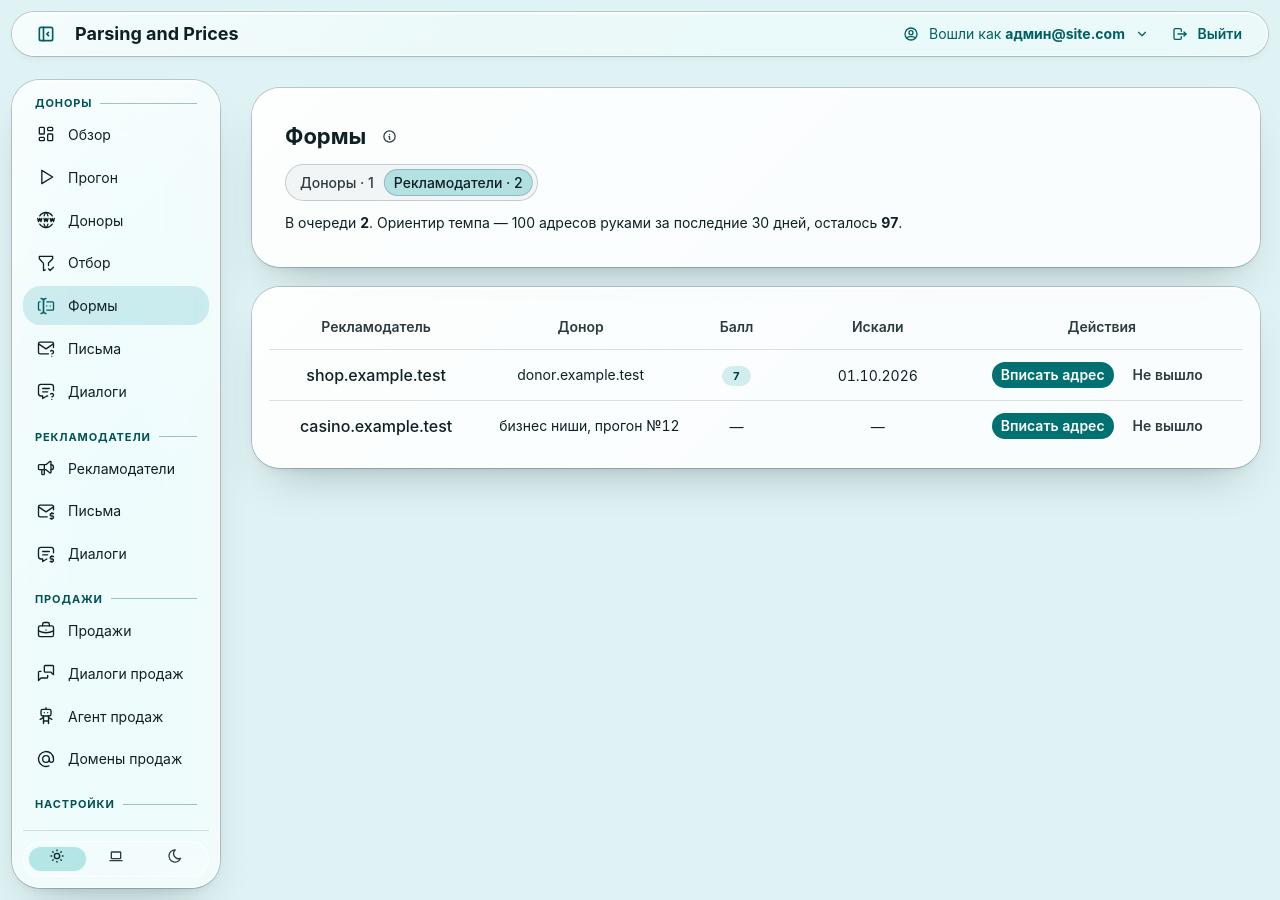
формы: вкладка рекламодателей › вписанный адрес уходит на сервер рекламодателей
expect the link "shop.example.test" is shown: met, box left=306, top=363, right=446, bottom=388
Click the button "Вписать адрес" in the row of "shop" at {"x": 1053, "y": 376}, box left=992, top=362, right=1114, bottom=388
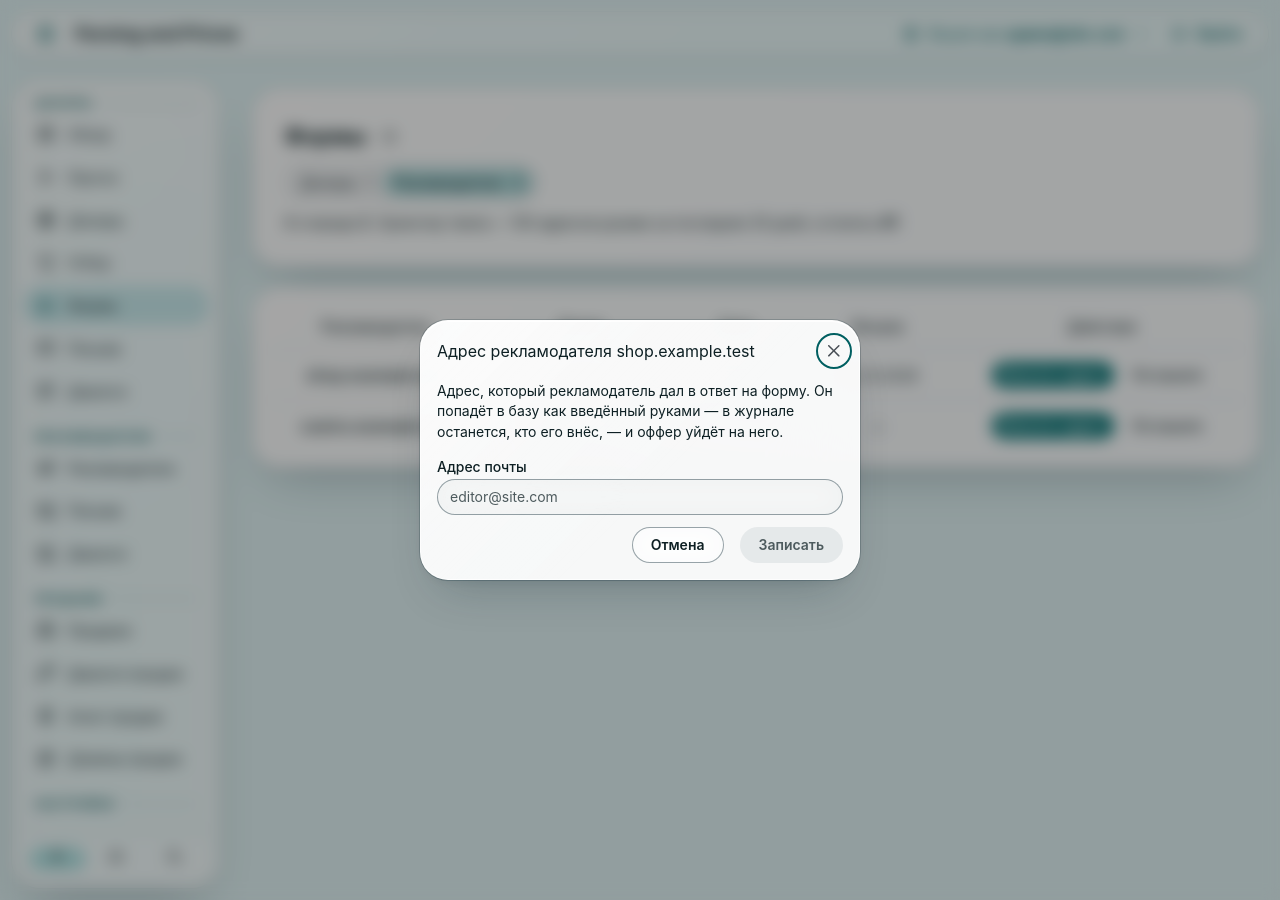
Type "ads@shop.example.test" into the field labelled "Адрес почты" at {"x": 640, "y": 497}, box left=437, top=479, right=843, bottom=515
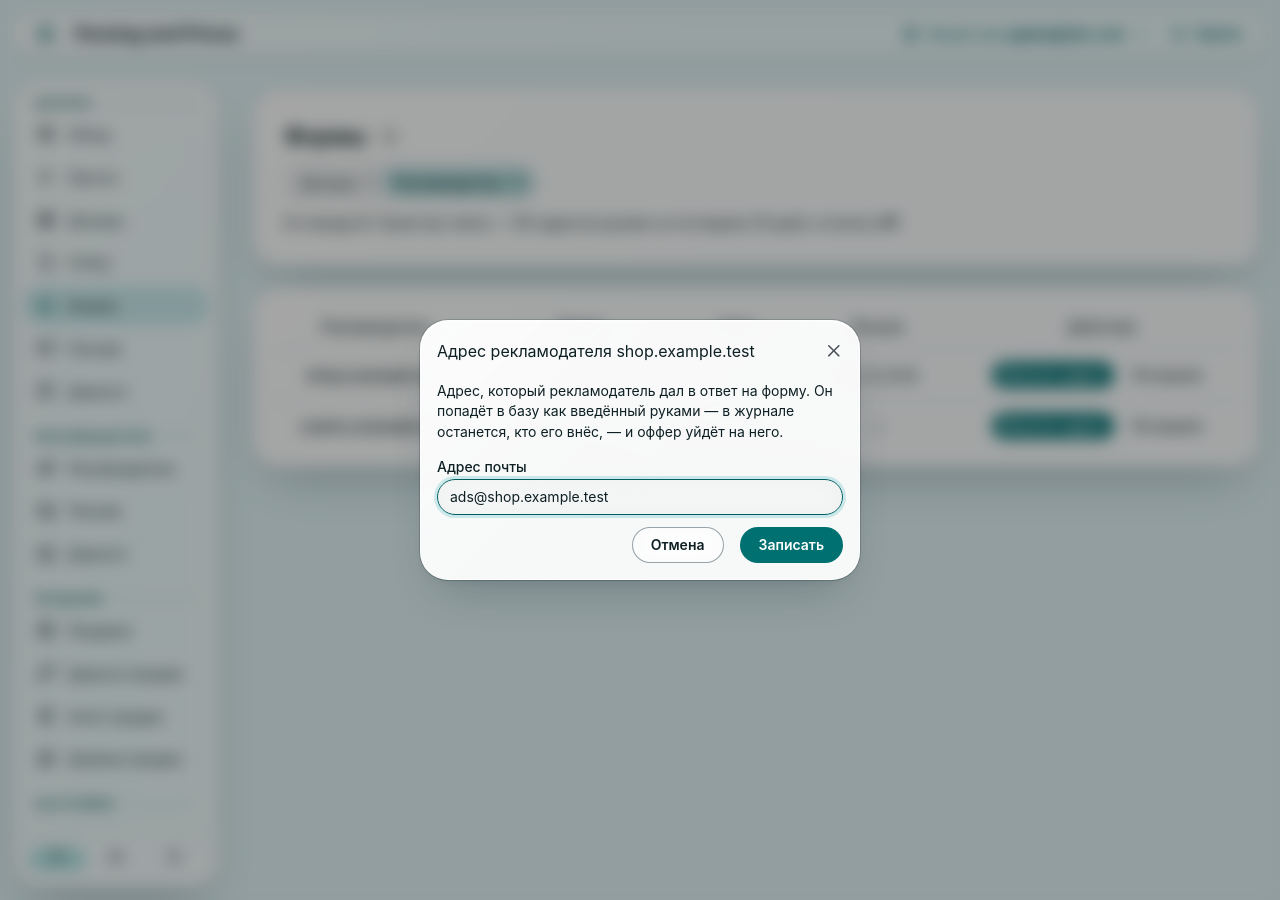
Click the button "Записать" at {"x": 791, "y": 545}, box left=740, top=527, right=843, bottom=563
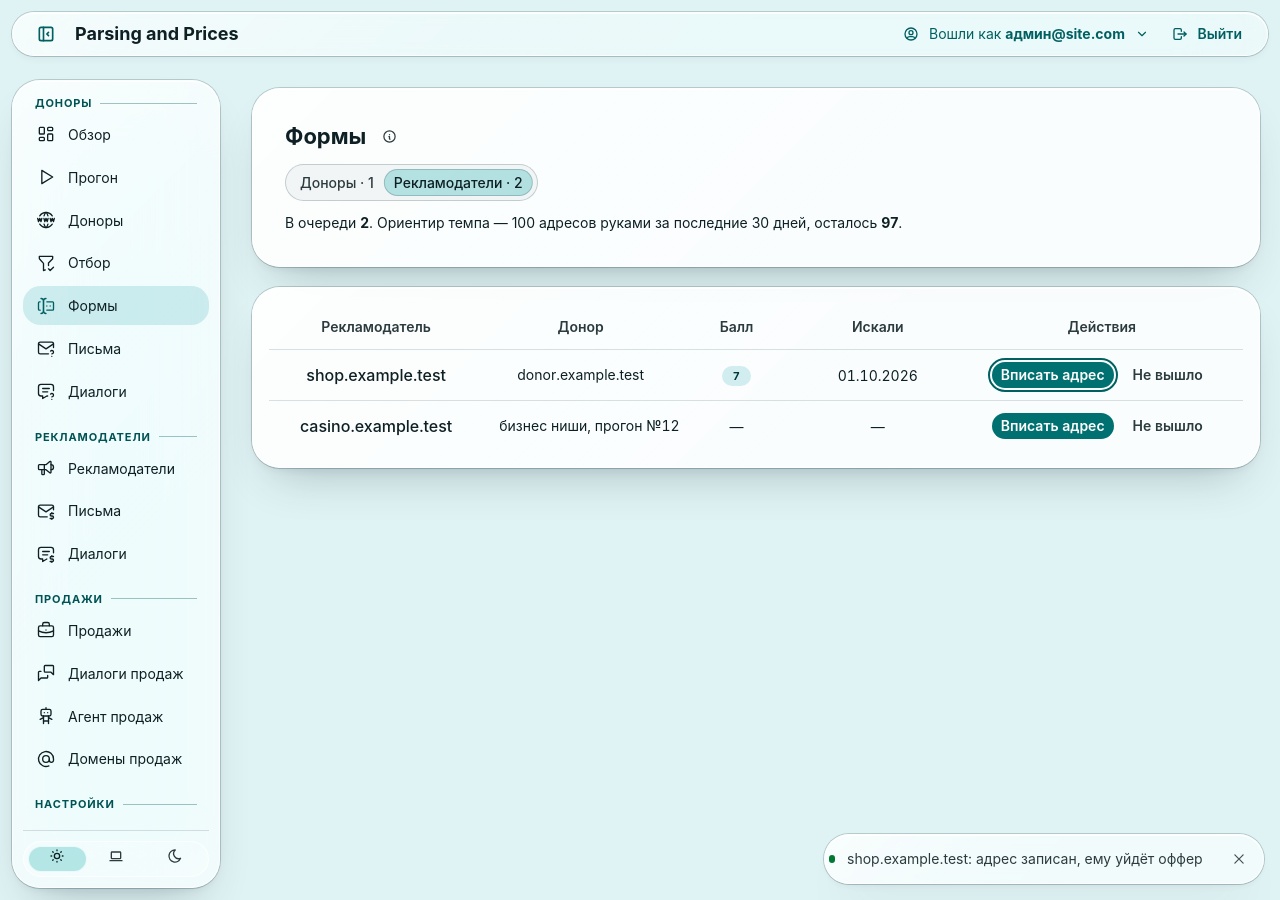
expect the text "shop.example.test: адрес записан, ему уйдёт оффер" is shown: met, box left=847, top=849, right=1215, bottom=869
